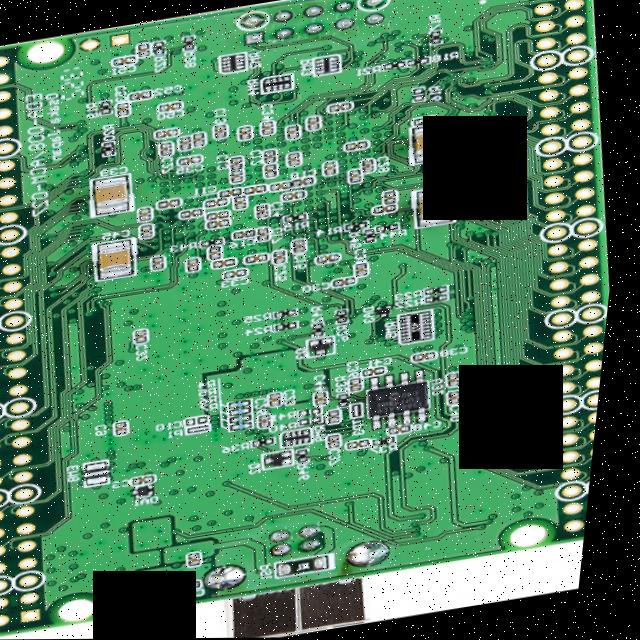-component text- -93AA66CI SN 1103 DE0-: (376, 389, 433, 415)
-component text- 472: (412, 321, 427, 334)
-diode zener array- DA1: (137, 482, 164, 500)
-diode zener array- DA3: (377, 304, 399, 319)
-resistor network- RM2: (218, 52, 248, 74)
-resistor network- RM3: (311, 54, 341, 76)
-resistor network- RM4: (260, 73, 295, 94)
-resistor network- RM5: (402, 309, 442, 345)
-resistor network- RM9: (287, 428, 320, 449)
-test point- P1: (191, 425, 219, 435)
-test point- TP3: (356, 403, 371, 419)
2005: (180, 34, 195, 50)
2052: (257, 436, 285, 448)
2061: (380, 437, 404, 446)
2072: (342, 392, 357, 408)
2080: (233, 400, 259, 410)
2081: (303, 415, 331, 427)
2090: (303, 407, 331, 418)
2100: (314, 322, 332, 338)
2111: (203, 237, 229, 249)
2117: (377, 224, 403, 234)
2123: (365, 229, 380, 243)
2128: (304, 449, 319, 463)
2156: (234, 407, 259, 417)
2189: (234, 414, 262, 424)
2200: (236, 422, 261, 432)
2354: (14, 92, 65, 218)
2439: (38, 91, 71, 163)
2679: (54, 64, 90, 103)
2845: (160, 419, 192, 433)
2856: (192, 184, 220, 197)
2867: (248, 148, 266, 166)
2878: (215, 153, 234, 171)
2889: (272, 201, 289, 219)
2900: (293, 252, 314, 272)
2911: (228, 236, 260, 251)
2922: (273, 226, 288, 244)
2933: (288, 168, 320, 182)
2944: (212, 107, 229, 126)
2956: (458, 202, 477, 221)
2989: (286, 388, 306, 408)
3000: (448, 118, 469, 140)
3011: (272, 263, 295, 284)
3021: (258, 396, 277, 416)
3027: (159, 155, 179, 175)
3036: (374, 155, 395, 175)
3057: (116, 477, 141, 491)
3058: (304, 280, 336, 295)
3069: (353, 247, 373, 265)
3079: (137, 343, 157, 363)
3089: (223, 276, 255, 291)
3100: (259, 102, 277, 121)
3111: (176, 163, 208, 176)
3120: (349, 359, 368, 379)
3127: (331, 448, 354, 469)
3135: (443, 344, 476, 359)
3145: (98, 165, 133, 178)
3154: (452, 404, 473, 424)
3157: (370, 356, 400, 369)
3168: (185, 587, 217, 602)
3182: (317, 373, 336, 392)
3183: (102, 228, 136, 242)
3186: (418, 418, 451, 433)
3189: (155, 108, 188, 122)
3190: (110, 63, 138, 76)
3191: (152, 84, 184, 97)
3192: (112, 85, 129, 105)
3232: (97, 423, 116, 437)
3295: (140, 494, 170, 507)
3298: (363, 306, 383, 325)
3346: (71, 463, 92, 483)
3637: (172, 428, 192, 439)
3748: (266, 562, 286, 582)
3755: (253, 462, 273, 478)
3756: (297, 347, 316, 361)
3811: (316, 225, 348, 239)
3822: (282, 219, 315, 234)
3833: (426, 85, 445, 104)
3844: (423, 12, 443, 33)
3855: (429, 50, 461, 64)
3866: (83, 101, 103, 120)
3878: (100, 123, 119, 143)
3889: (353, 65, 383, 77)
3900: (396, 297, 430, 311)
3911: (395, 289, 427, 302)
3921: (247, 325, 279, 338)
3932: (246, 311, 278, 325)
3943: (336, 323, 358, 344)
3954: (151, 54, 168, 73)
3965: (181, 51, 196, 69)
4018: (225, 441, 260, 455)
4027: (375, 442, 409, 457)
4038: (339, 376, 355, 394)
4046: (201, 379, 225, 390)
4047: (272, 421, 307, 434)
4056: (278, 411, 306, 423)
4066: (311, 304, 332, 324)
4077: (171, 240, 203, 255)
4083: (381, 228, 413, 242)
4089: (347, 230, 367, 249)
4094: (302, 462, 323, 483)
4122: (201, 386, 226, 398)
4157: (201, 395, 227, 406)
4168: (204, 401, 226, 414)
4211: (246, 50, 264, 70)
4212: (296, 58, 315, 78)
4213: (242, 77, 263, 97)
4214: (384, 320, 405, 342)
4248: (129, 601, 157, 613)
4316: (356, 418, 377, 438)
4365: (429, 375, 453, 398)
4443: (269, 450, 303, 470)
4444: (311, 337, 342, 358)
4474: (284, 553, 346, 579)
4476: (127, 581, 187, 605)
capacitor: (213, 256, 241, 270), (155, 127, 181, 141), (245, 252, 273, 265), (322, 160, 342, 177), (347, 168, 367, 185), (328, 101, 354, 114), (208, 218, 234, 231), (411, 115, 439, 127), (373, 204, 401, 216), (157, 198, 185, 210), (205, 197, 233, 209), (207, 210, 235, 222), (242, 184, 270, 196), (352, 439, 380, 451), (317, 253, 345, 265), (286, 151, 305, 168), (229, 168, 248, 185), (152, 254, 171, 271), (450, 372, 469, 389), (138, 206, 158, 222), (345, 140, 371, 152), (283, 190, 309, 202), (191, 131, 209, 148), (383, 190, 402, 206), (264, 162, 281, 179), (196, 551, 213, 568), (237, 125, 255, 141), (305, 116, 322, 132), (189, 257, 206, 273), (209, 245, 226, 261), (234, 195, 251, 211), (182, 208, 206, 219), (142, 223, 158, 239), (285, 126, 303, 140), (271, 181, 293, 192), (135, 43, 150, 59), (178, 136, 193, 152), (333, 409, 348, 425)
capacitor C110: (220, 187, 245, 199)
capacitor C120: (263, 149, 280, 165)
capacitor C130: (212, 123, 230, 140), (229, 156, 247, 171)
capacitor C140: (256, 203, 274, 219)
capacitor C150: (293, 240, 312, 254)
capacitor C160: (235, 228, 260, 240)
capacitor C170: (259, 226, 274, 243)
capacitor C180: (294, 179, 316, 188)
capacitor C200: (412, 185, 463, 228)
capacitor C230: (273, 392, 290, 408)
capacitor C240: (408, 122, 457, 165)
capacitor C250: (272, 249, 292, 265)
capacitor C260: (264, 414, 279, 430)
capacitor C270: (159, 142, 176, 157)
capacitor C280: (361, 158, 378, 174)
capacitor C30: (138, 473, 166, 487)
capacitor C300: (335, 276, 361, 288)
capacitor C310: (357, 262, 374, 278)
capacitor C321: (137, 327, 156, 345)
capacitor C330: (226, 267, 254, 280)
capacitor C340: (259, 120, 278, 136)
capacitor C350: (179, 155, 205, 167)
capacitor C362: (352, 378, 371, 392)
capacitor C370: (333, 435, 350, 449)
capacitor C380: (417, 351, 443, 363)
capacitor C390: (91, 174, 137, 217)
capacitor C400: (453, 392, 470, 406)
capacitor C418: (366, 366, 392, 378)
capacitor C420: (187, 580, 213, 592)
capacitor C45: (318, 391, 335, 407)
capacitor C46: (95, 239, 142, 281)
capacitor C49: (394, 424, 420, 437)
capacitor C51: (157, 101, 185, 113)
capacitor C52: (110, 55, 136, 67)
capacitor C53: (129, 91, 154, 102)
capacitor C54: (115, 103, 132, 117)
capacitor C90: (119, 421, 137, 437)
connector CNB: (478, 0, 640, 543)
connector CON2: (0, 48, 104, 632)
connector TP3: (73, 29, 136, 56)
ic U32: (367, 367, 440, 433)
pads C10: (191, 415, 219, 427)
pads EM8: (90, 459, 119, 486)
pads R16: (408, 85, 428, 104)
pins CN2: (225, 0, 395, 50)
pins unknown: (271, 521, 342, 561), (348, 535, 409, 572), (208, 559, 259, 596)
resistor R140: (346, 222, 372, 232)
resistor R150: (285, 213, 310, 223)
resistor R170: (427, 29, 442, 45)
resistor R180: (404, 57, 429, 67)
resistor R190: (98, 99, 115, 115)
resistor R200: (101, 141, 118, 157)
resistor R210: (381, 62, 405, 71)
resistor R220: (426, 294, 456, 304)
resistor R230: (422, 285, 455, 298)
resistor R240: (276, 321, 304, 333)
resistor R250: (278, 308, 304, 318)
resistor R260: (339, 309, 354, 325)
resistor R270: (150, 40, 165, 56)
